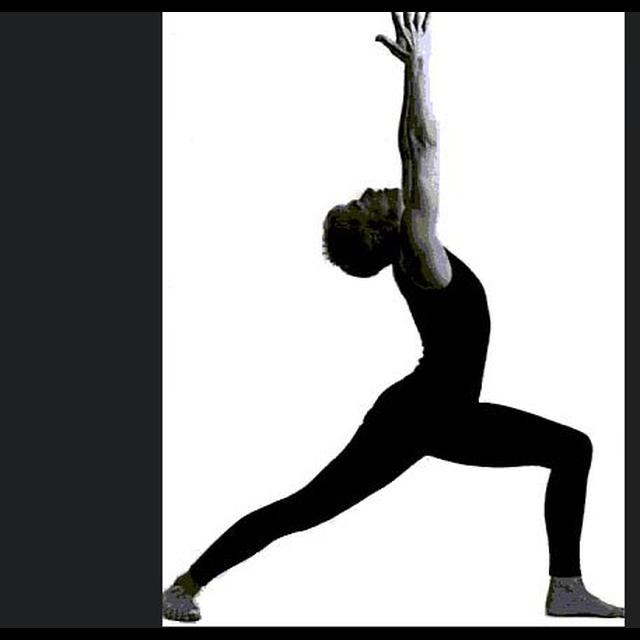Warrior_I: (168, 14, 623, 624)
